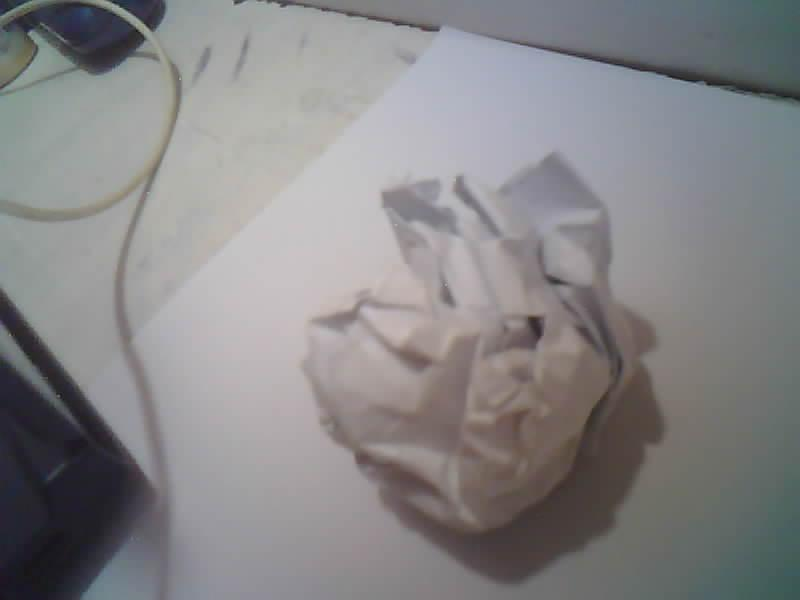biodegradable: (304, 156, 629, 532)
